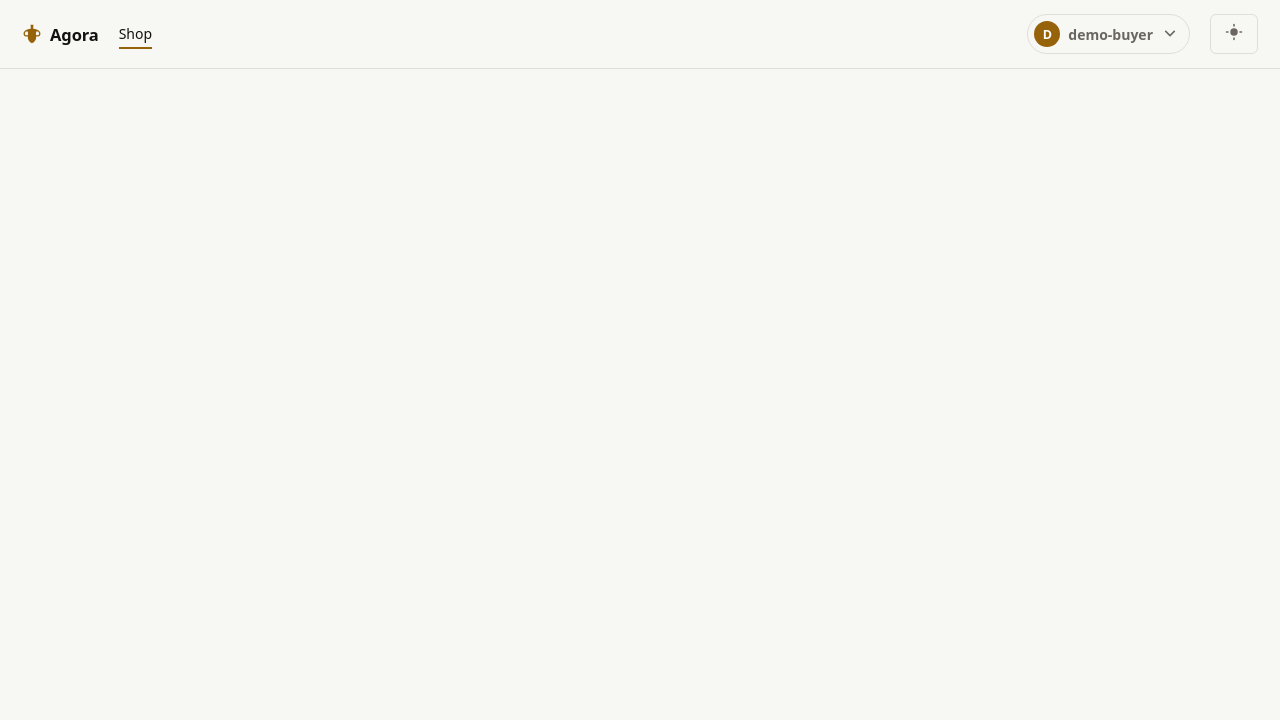
Test case: Navbar › opens the account menu on click and closes it on an outside click
Expected: the text "demo-buyer" is shown, [1068,24,1153,44]
Expected: the text "Log out" is not shown
Click the button "D demo-buyer".
click(1109, 34)  # box [1027,14,1190,54]
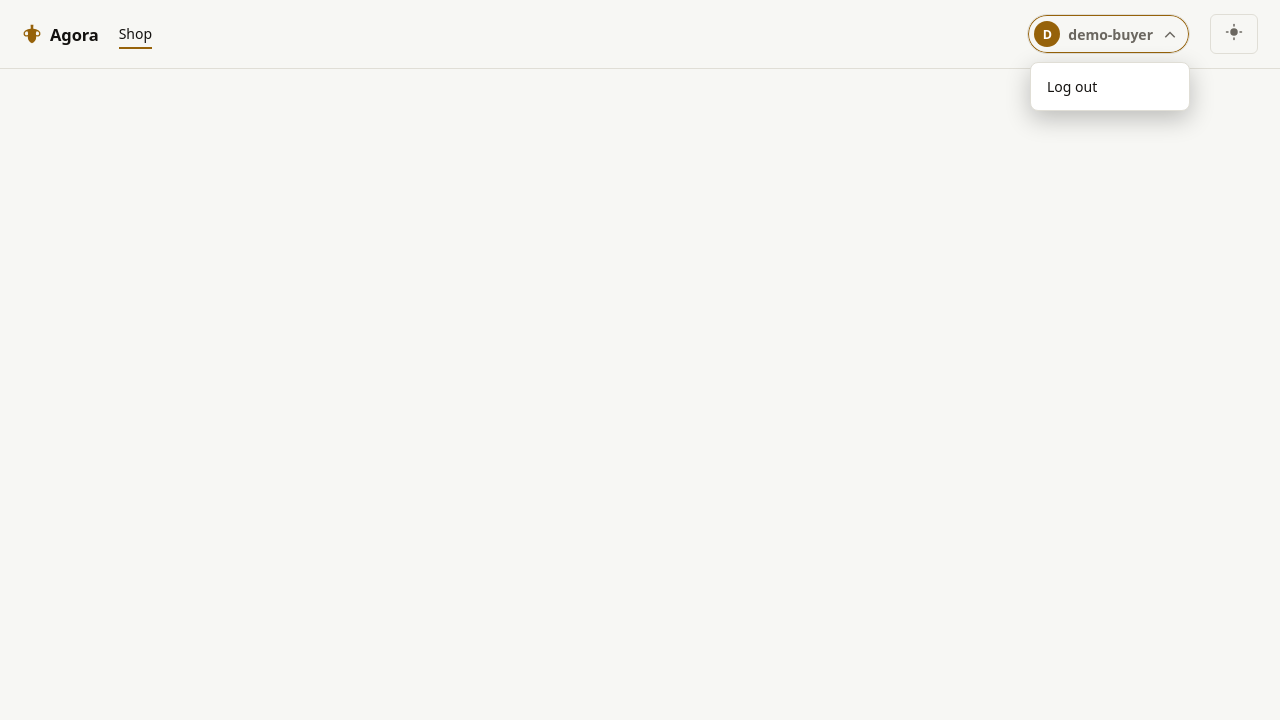
Now the link "Log out" is shown, box [1047,77,1097,96]
Click the element showing "Agora Shop D demo-buyer Log out".
click(640, 360)  # box [0,0,1279,719]
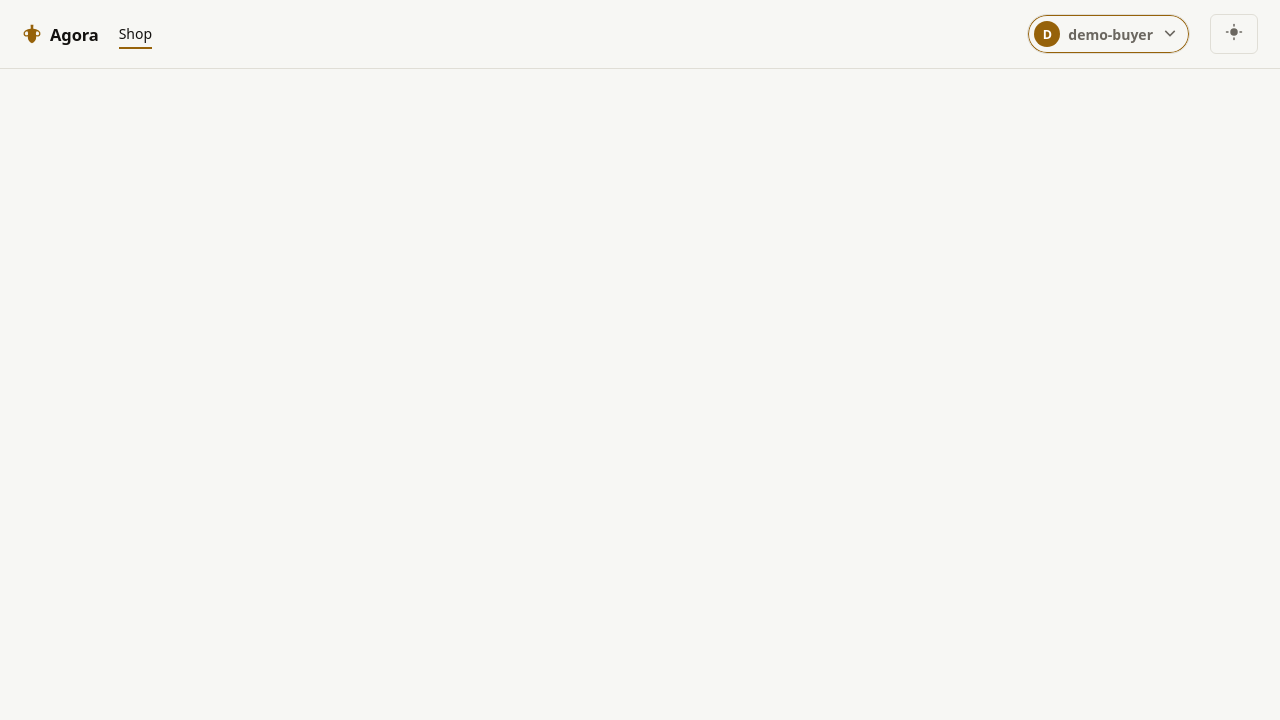
Now the link "Log out" is gone
